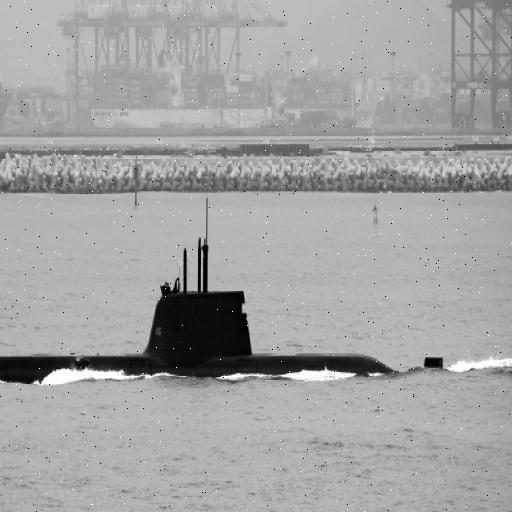submarine: (1, 202, 446, 376)
